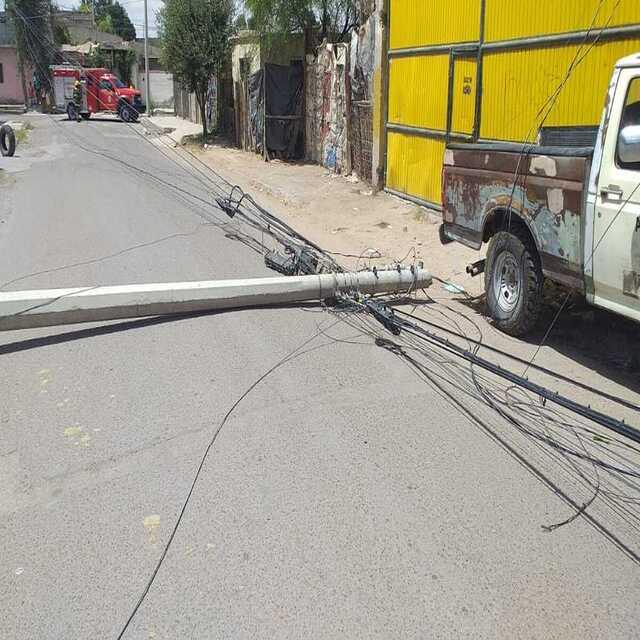Inclined Pole: (0, 245, 446, 335)
